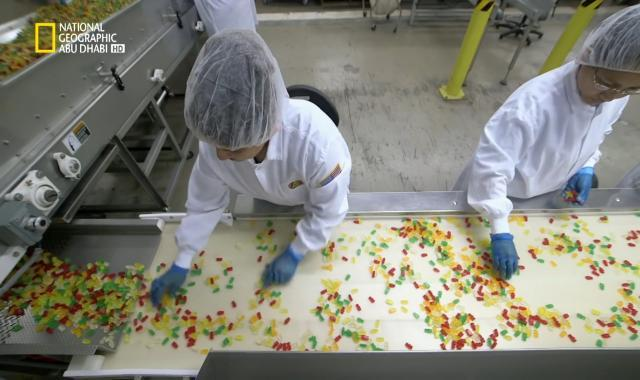Glove: (263, 252, 306, 287), (490, 234, 520, 278), (155, 266, 188, 304), (569, 166, 594, 203)
Hairnet: (184, 34, 280, 146), (581, 12, 640, 69)
No_Apron: (519, 74, 624, 213)
